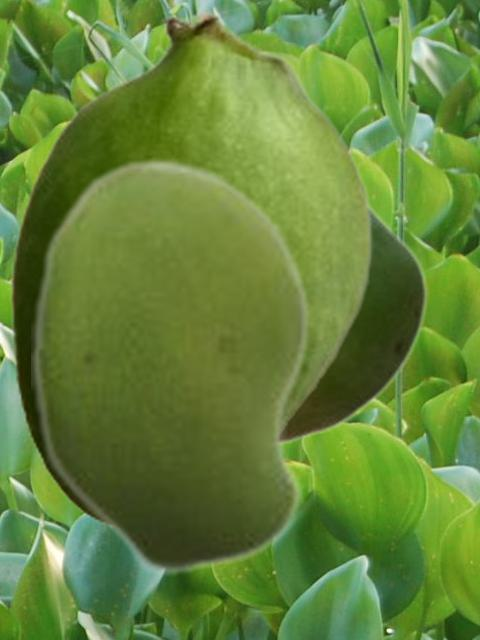green_mango: (9, 8, 372, 530), (31, 157, 311, 577), (287, 204, 427, 447)
